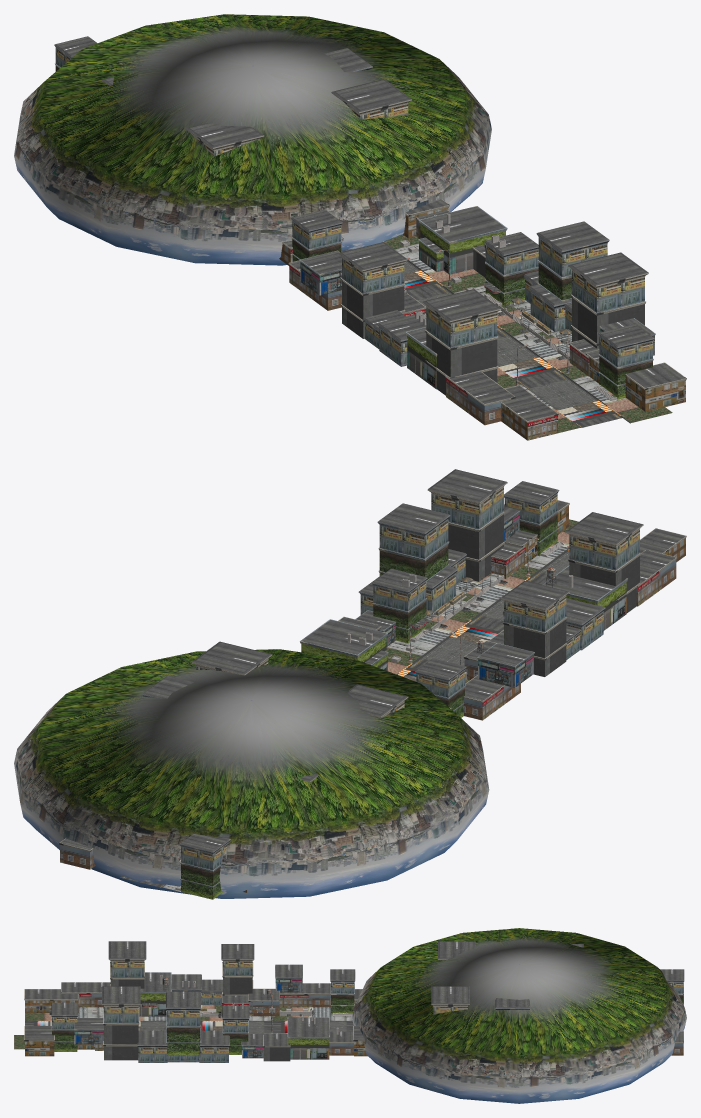
Rendered from Bus.glb.
3 renders of one model, top to bottom at view 1: azimuth 30°, elevation 25°; view 2: azimuth 150°, elevation 25°; view 3: azimuth 270°, elevation 25°, orthographic. The views are drawn at different scales.
Parts seen in each view (by area): view 1: Bus; view 2: Bus; view 3: Bus.
Part boxes in pixels (x1,y1,x2,y2): Bus: [14, 14, 686, 440]; Bus: [14, 469, 686, 899]; Bus: [14, 928, 686, 1103].
Bounding box in the file's own units: 827 × 200 × 1660.
8 materials, 7 textured.
